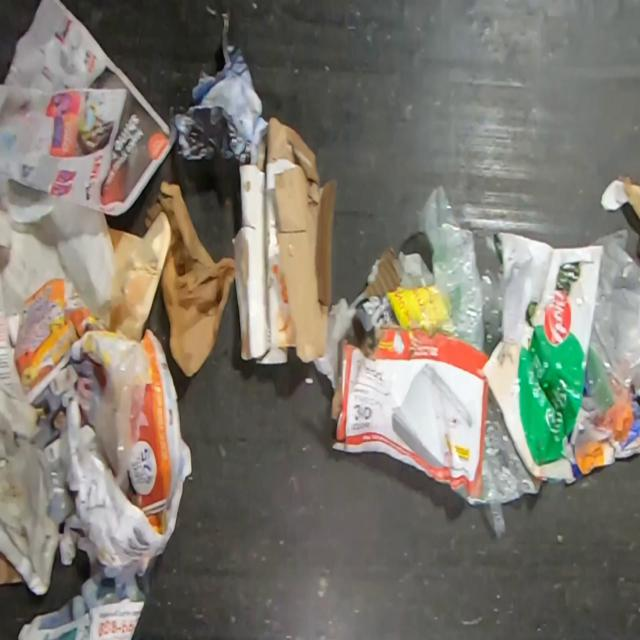cardboard: (330, 326, 490, 506), (231, 115, 339, 367), (349, 245, 435, 346), (600, 174, 640, 222), (0, 547, 26, 589)
soft_plastic: (476, 230, 604, 484), (409, 182, 503, 356), (585, 227, 640, 417), (480, 387, 546, 538), (89, 342, 153, 491)
